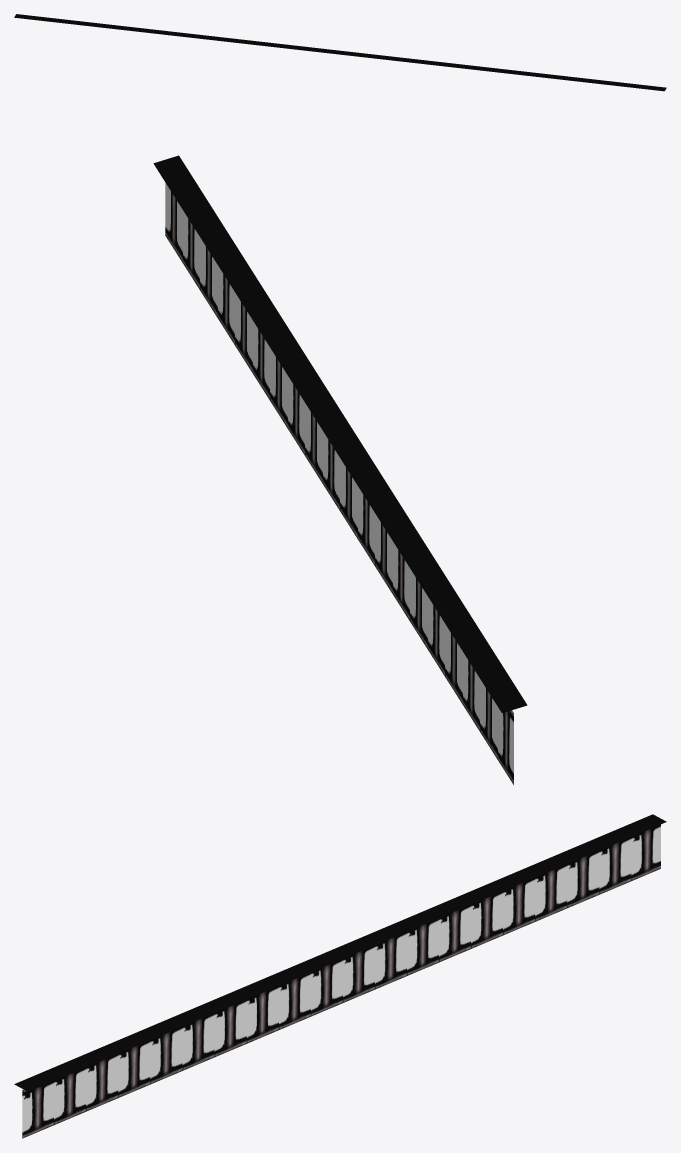
Rendered from GeländerSchräg_938.glb.
The picture shows the model from 3 angles, top to bottom: view 1: azimuth 30°, elevation 25°; view 2: azimuth 150°, elevation 25°; view 3: azimuth 270°, elevation 25°; orthographic projection. The views are drawn at different scales.
Parts seen in each view (by area): view 1: pPlaneShape47; view 2: pPlaneShape46, pPlaneShape47; view 3: pPlaneShape46, pPlaneShape47.
Part boxes in pixels (x1=…): pPlaneShape47: x1=14, y1=14, x2=666, y2=91; pPlaneShape46: x1=165, y1=183, x2=513, y2=784; pPlaneShape47: x1=153, y1=155, x2=527, y2=713; pPlaneShape46: x1=22, y1=824, x2=660, y2=1138; pPlaneShape47: x1=14, y1=814, x2=666, y2=1091.
Bounding box in the file's own units: 1.02 × 0.0898 × 1.02.
2 materials, 1 textured.
